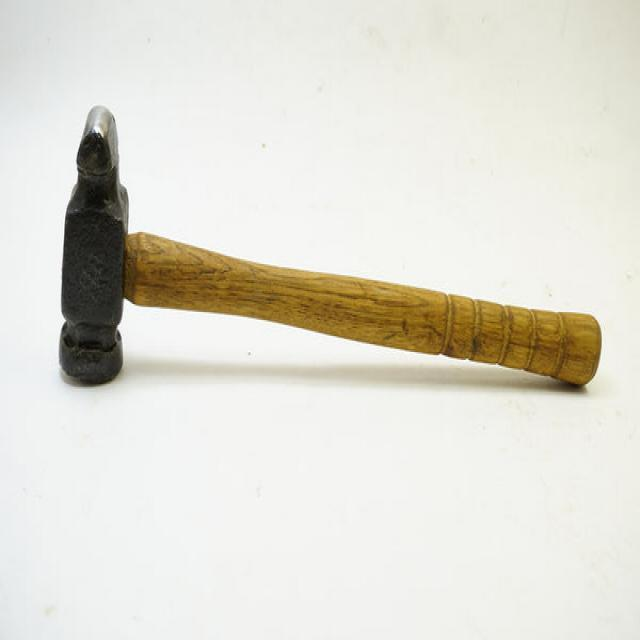hammer: (36, 95, 609, 398)
